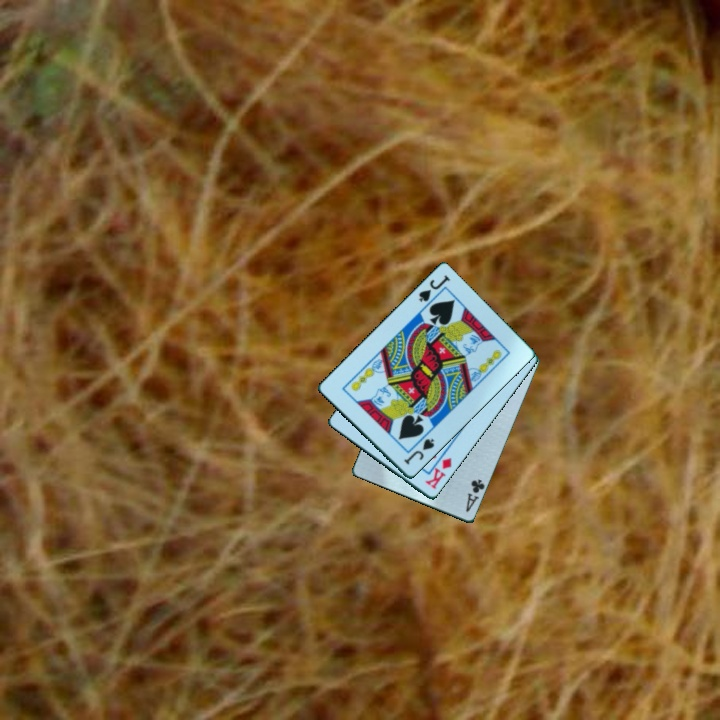Ac: (462, 476, 488, 515)
Js: (400, 435, 438, 468), (415, 272, 453, 305)
Kd: (421, 454, 455, 492)
